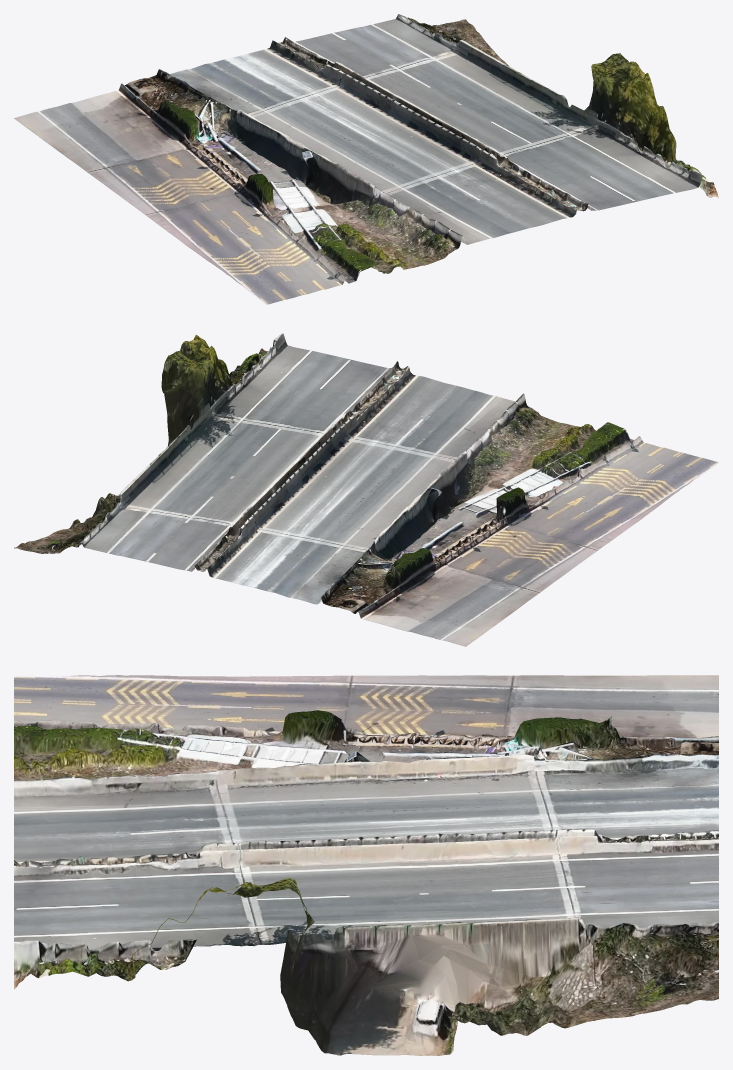
Rendered from BlockYY_L20_213.glb.
3 renders of one model, top to bottom at view 1: azimuth 30°, elevation 25°; view 2: azimuth 150°, elevation 25°; view 3: azimuth 270°, elevation 25°, orthographic. The views are drawn at different scales.
Visible parts, largest first — view 1: rtc; view 2: rtc; view 3: rtc.
Boxes of the visible parts, x1=… form: rtc: x1=14, y1=14, x2=718, y2=304; rtc: x1=14, y1=333, x2=718, y2=646; rtc: x1=14, y1=675, x2=718, y2=1055.
Bounding box in the file's own units: 45.31 × 11.89 × 43.96.
7 materials, 7 textured.
